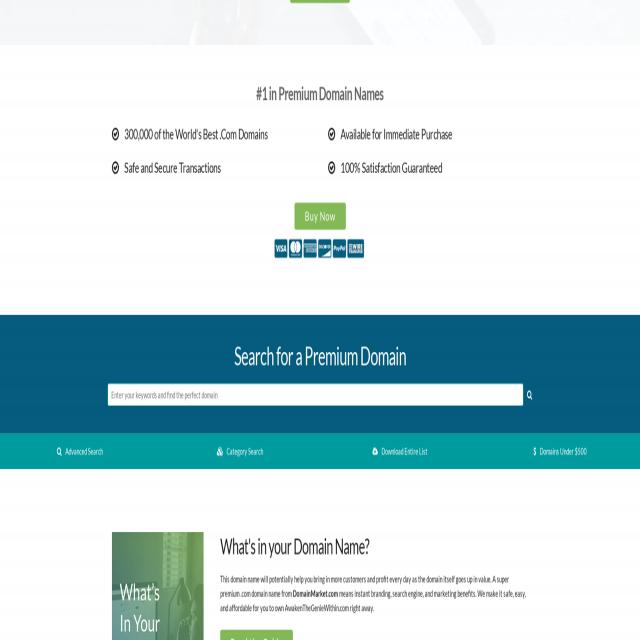button: (112, 531, 203, 640), (526, 439, 592, 465), (368, 440, 433, 464), (211, 438, 270, 464), (294, 203, 346, 230), (54, 440, 110, 463), (220, 629, 293, 640), (346, 236, 366, 261), (274, 236, 288, 261), (289, 236, 303, 261), (303, 236, 317, 261), (318, 236, 332, 261), (333, 236, 347, 261), (525, 385, 536, 407)
field: (108, 383, 523, 405)
